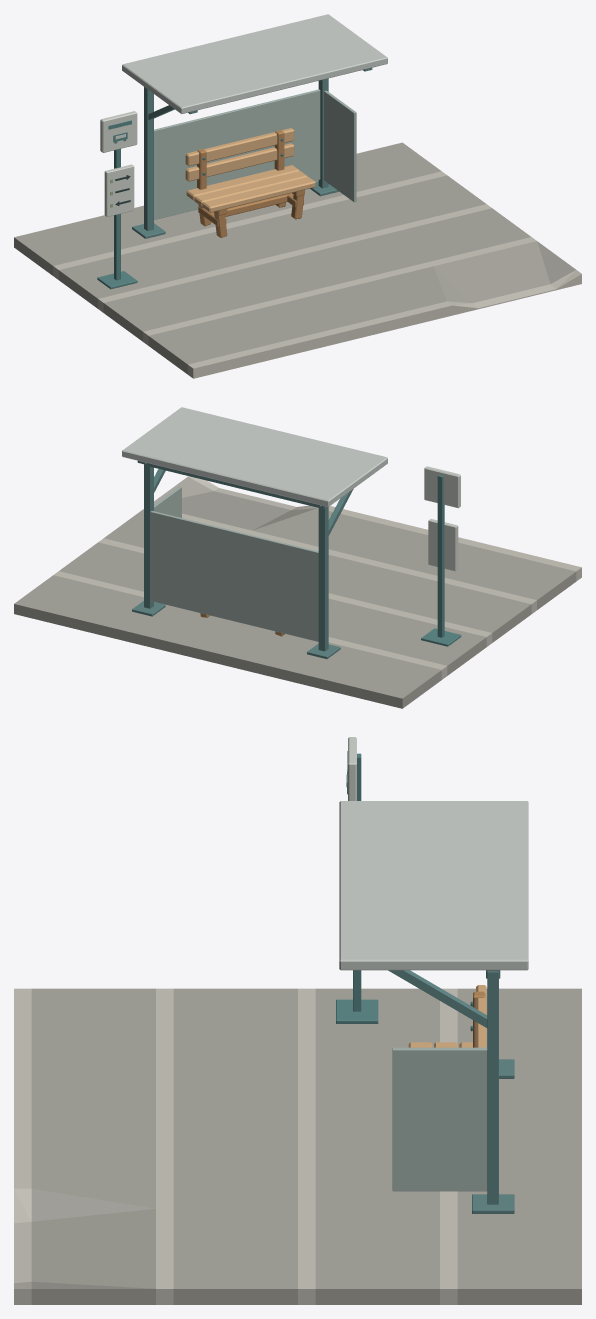
3 views of the same model, one above another, from view 1: azimuth 30°, elevation 25°; view 2: azimuth 150°, elevation 25°; view 3: azimuth 270°, elevation 25° (orthographic). The views are drawn at different scales.
Visible parts, largest first — view 1: transport-passenger-waiting-shelter-01__00__Broad opaque she, transport-passenger-waiting-shelter-01__00__Low back wind pa, transport-curb-straight-01__00__Pavement with straight-curb, transport-curb-ramp-01__00__Pavement with dropped-curb, transport-curb-straight-01__01__Pavement with straight-curb, transport-curb-straight-01__02__Pavement with straight-curb, transport-curb-straight-01__04__Pavement with straight-curb, transport-curb-straight-01__03__Pavement with straight-curb, transport-curb-straight-01__07__Pavement with straight-curb, transport-curb-straight-01__05__Pavement with straight-curb, transport-curb-straight-01__06__Pavement with straight-curb, transport-curb-straight-01__08__Pavement with straight-curb (+14 smaller); view 2: transport-passenger-waiting-shelter-01__00__Low back wind pa, transport-passenger-waiting-shelter-01__00__Broad opaque she, transport-curb-straight-01__08__Pavement with straight-curb, transport-curb-straight-01__10__Pavement with straight-curb, transport-curb-straight-01__09__Pavement with straight-curb, transport-curb-straight-01__02__Pavement with straight-curb, transport-curb-straight-01__05__Pavement with straight-curb, transport-curb-straight-01__00__Pavement with straight-curb, transport-curb-straight-01__01__Pavement with straight-curb, transport-curb-ramp-01__00__Pavement with dropped-curb, transport-curb-straight-01__07__Pavement with straight-curb, transport-curb-straight-01__03__Pavement with straight-curb (+10 smaller); view 3: transport-passenger-waiting-shelter-01__00__Broad opaque she, transport-curb-ramp-01__00__Pavement with dropped-curb, transport-curb-straight-01__04__Pavement with straight-curb, transport-curb-straight-01__07__Pavement with straight-curb, transport-curb-straight-01__10__Pavement with straight-curb, transport-curb-straight-01__00__Pavement with straight-curb, transport-curb-straight-01__01__Pavement with straight-curb, transport-curb-straight-01__02__Pavement with straight-curb, transport-curb-straight-01__03__Pavement with straight-curb, transport-passenger-waiting-shelter-01__00__Short right wind, transport-curb-straight-01__05__Pavement with straight-curb, transport-curb-straight-01__08__Pavement with straight-curb (+6 smaller).
Part boxes in pixels (<box>): transport-passenger-waiting-shelter-01__00__Broad opaque she: <box>122,14,387,113</box>; transport-passenger-waiting-shelter-01__00__Low back wind pa: <box>154,89,320,219</box>; transport-curb-straight-01__00__Pavement with straight-curb: <box>148,304,322,378</box>; transport-curb-ramp-01__00__Pavement with dropped-curb: <box>408,241,581,315</box>; transport-curb-straight-01__01__Pavement with straight-curb: <box>278,272,452,346</box>; transport-curb-straight-01__02__Pavement with straight-curb: <box>103,271,277,345</box>; transport-curb-straight-01__04__Pavement with straight-curb: <box>363,208,536,272</box>; transport-curb-straight-01__03__Pavement with straight-curb: <box>233,240,406,303</box>; transport-curb-straight-01__07__Pavement with straight-curb: <box>318,175,491,239</box>; transport-curb-straight-01__05__Pavement with straight-curb: <box>59,238,232,312</box>; transport-curb-straight-01__06__Pavement with straight-curb: <box>188,207,362,271</box>; transport-curb-straight-01__08__Pavement with straight-curb: <box>14,205,187,279</box>; transport-passenger-waiting-shelter-01__00__Low back wind pa: <box>150,511,318,641</box>; transport-passenger-waiting-shelter-01__00__Broad opaque she: <box>122,407,387,506</box>; transport-curb-straight-01__08__Pavement with straight-curb: <box>273,637,447,708</box>; transport-curb-straight-01__10__Pavement with straight-curb: <box>14,571,179,645</box>; transport-curb-straight-01__09__Pavement with straight-curb: <box>143,608,309,676</box>; transport-curb-straight-01__02__Pavement with straight-curb: <box>363,568,536,642</box>; transport-curb-straight-01__05__Pavement with straight-curb: <box>328,601,492,675</box>; transport-curb-straight-01__00__Pavement with straight-curb: <box>408,537,581,609</box>; transport-curb-straight-01__01__Pavement with straight-curb: <box>278,506,428,568</box>; transport-curb-ramp-01__00__Pavement with dropped-curb: <box>154,476,317,536</box>; transport-curb-straight-01__07__Pavement with straight-curb: <box>59,538,143,591</box>; transport-curb-straight-01__03__Pavement with straight-curb: <box>273,537,407,601</box>; transport-passenger-waiting-shelter-01__00__Broad opaque she: <box>339,801,528,970</box>; transport-curb-ramp-01__00__Pavement with dropped-curb: <box>14,1188,155,1304</box>; transport-curb-straight-01__04__Pavement with straight-curb: <box>156,1188,297,1304</box>; transport-curb-straight-01__07__Pavement with straight-curb: <box>298,1188,439,1304</box>; transport-curb-straight-01__10__Pavement with straight-curb: <box>440,1188,581,1304</box>; transport-curb-straight-01__00__Pavement with straight-curb: <box>14,988,155,1088</box>; transport-curb-straight-01__01__Pavement with straight-curb: <box>14,1088,155,1188</box>; transport-curb-straight-01__02__Pavement with straight-curb: <box>156,988,297,1088</box>; transport-curb-straight-01__03__Pavement with straight-curb: <box>156,1088,297,1188</box>; transport-passenger-waiting-shelter-01__00__Short right wind: <box>392,1047,487,1191</box>; transport-curb-straight-01__05__Pavement with straight-curb: <box>298,988,439,1088</box>; transport-curb-straight-01__08__Pavement with straight-curb: <box>440,988,581,1088</box>.
Bounding box in the file's own units: 6 × 2.61 × 4.8.
